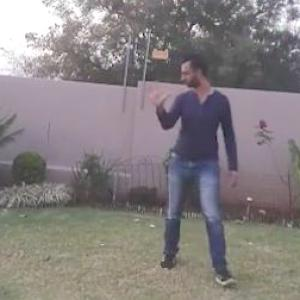follow_hand: (142, 76, 172, 110)
